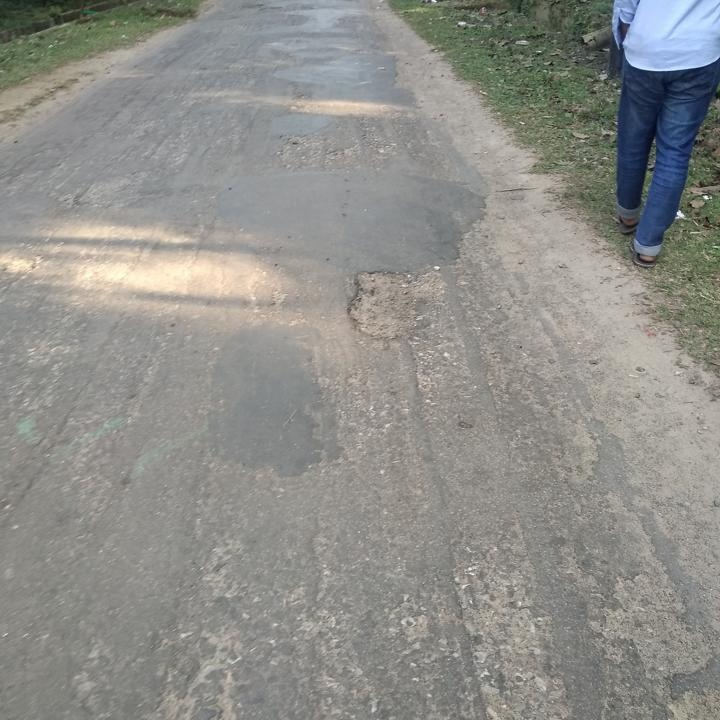pothole: (343, 261, 445, 348)
